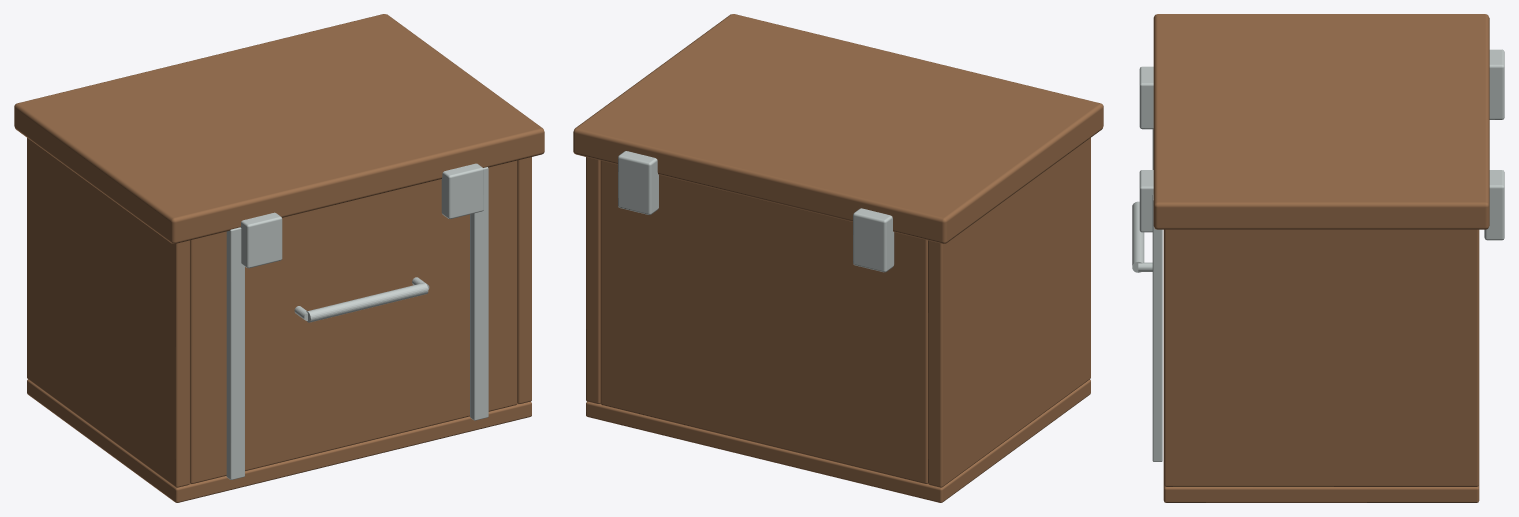
File: tea-garden-and-processing-house-tea-garden-and-process-78049d27__30782.glb
3 views of the same model, side by side, from view 1: azimuth 30°, elevation 25°; view 2: azimuth 150°, elevation 25°; view 3: azimuth 270°, elevation 25° (orthographic). The views are drawn at different scales.
Parts seen in each view (by area): view 1: tea-garden-and-processing-house-finished-leaf-chest; view 2: tea-garden-and-processing-house-finished-leaf-chest; view 3: tea-garden-and-processing-house-finished-leaf-chest.
Boxes of the visible parts, box(x1,y1,x2,y2) form: tea-garden-and-processing-house-finished-leaf-chest: box(14, 14, 544, 502); tea-garden-and-processing-house-finished-leaf-chest: box(573, 14, 1103, 502); tea-garden-and-processing-house-finished-leaf-chest: box(1132, 14, 1504, 502).
Bounding box in the file's own units: 0.89 × 0.66 × 0.732.
